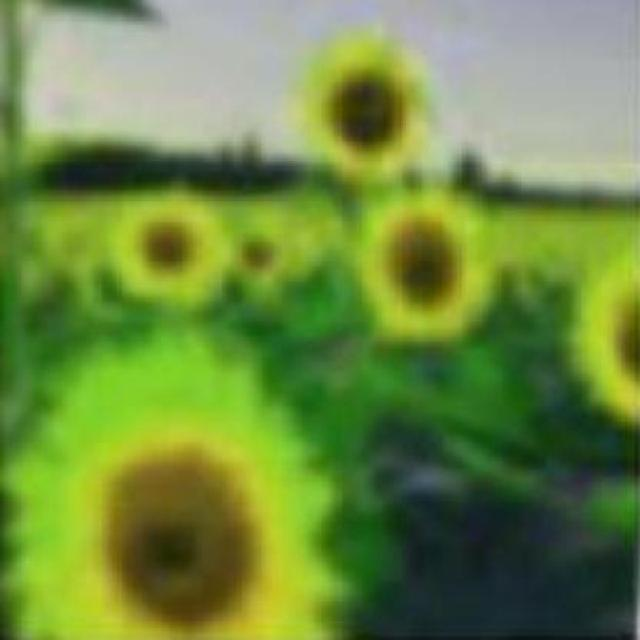sunflower: (0, 328, 357, 640), (354, 180, 507, 340), (300, 31, 429, 188), (113, 184, 236, 310)
